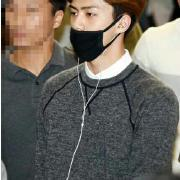WRONG: (67, 4, 123, 60)
